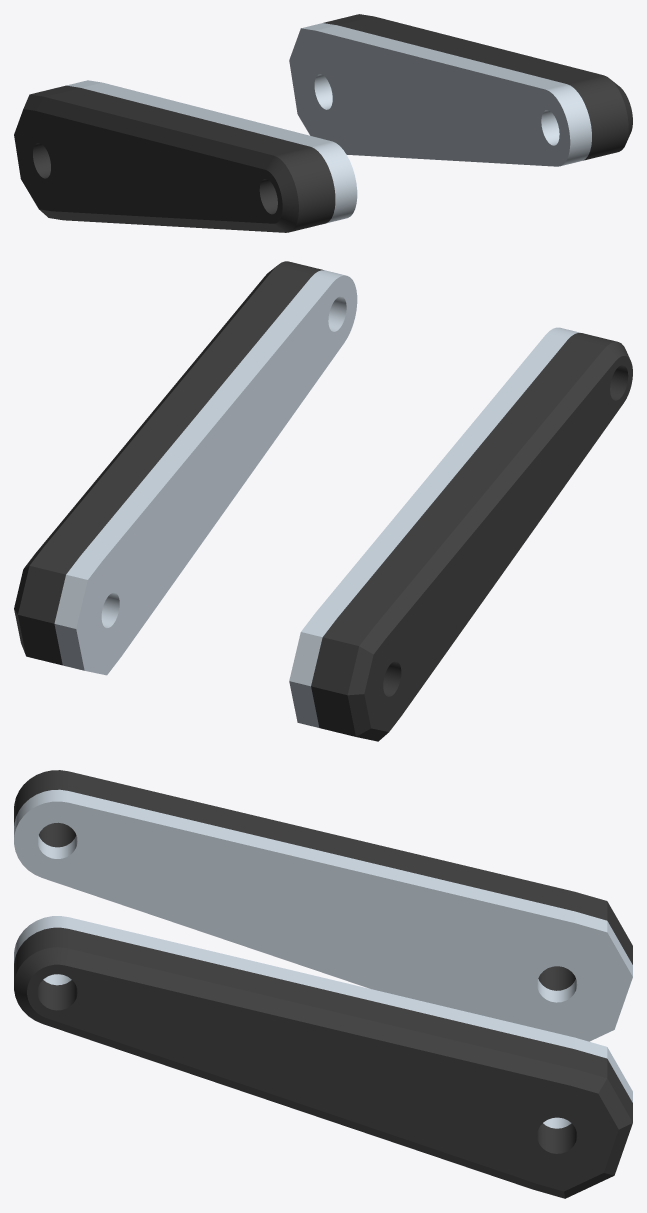
The model's file is Top Front Linkages.glb.
The picture shows the model from 3 angles, top to bottom: view 1: azimuth 30°, elevation 25°; view 2: azimuth 150°, elevation 25°; view 3: azimuth 270°, elevation 25°; orthographic projection. The views are drawn at different scales.
Visible parts, largest first — view 1: Top Front Linkages; view 2: Top Front Linkages; view 3: Top Front Linkages.
Boxes of the visible parts, x1,y1,x2,y2 form: Top Front Linkages: (14, 14, 632, 232); Top Front Linkages: (14, 261, 632, 741); Top Front Linkages: (14, 770, 632, 1198).
Size of the model in its own units: 0.051 by 0.0318 by 0.0709.
